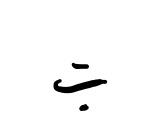div: (52, 62, 106, 112)
